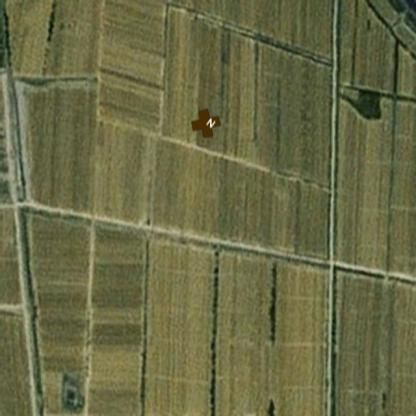N: (204, 116, 218, 129)
plus: (191, 108, 222, 141)
